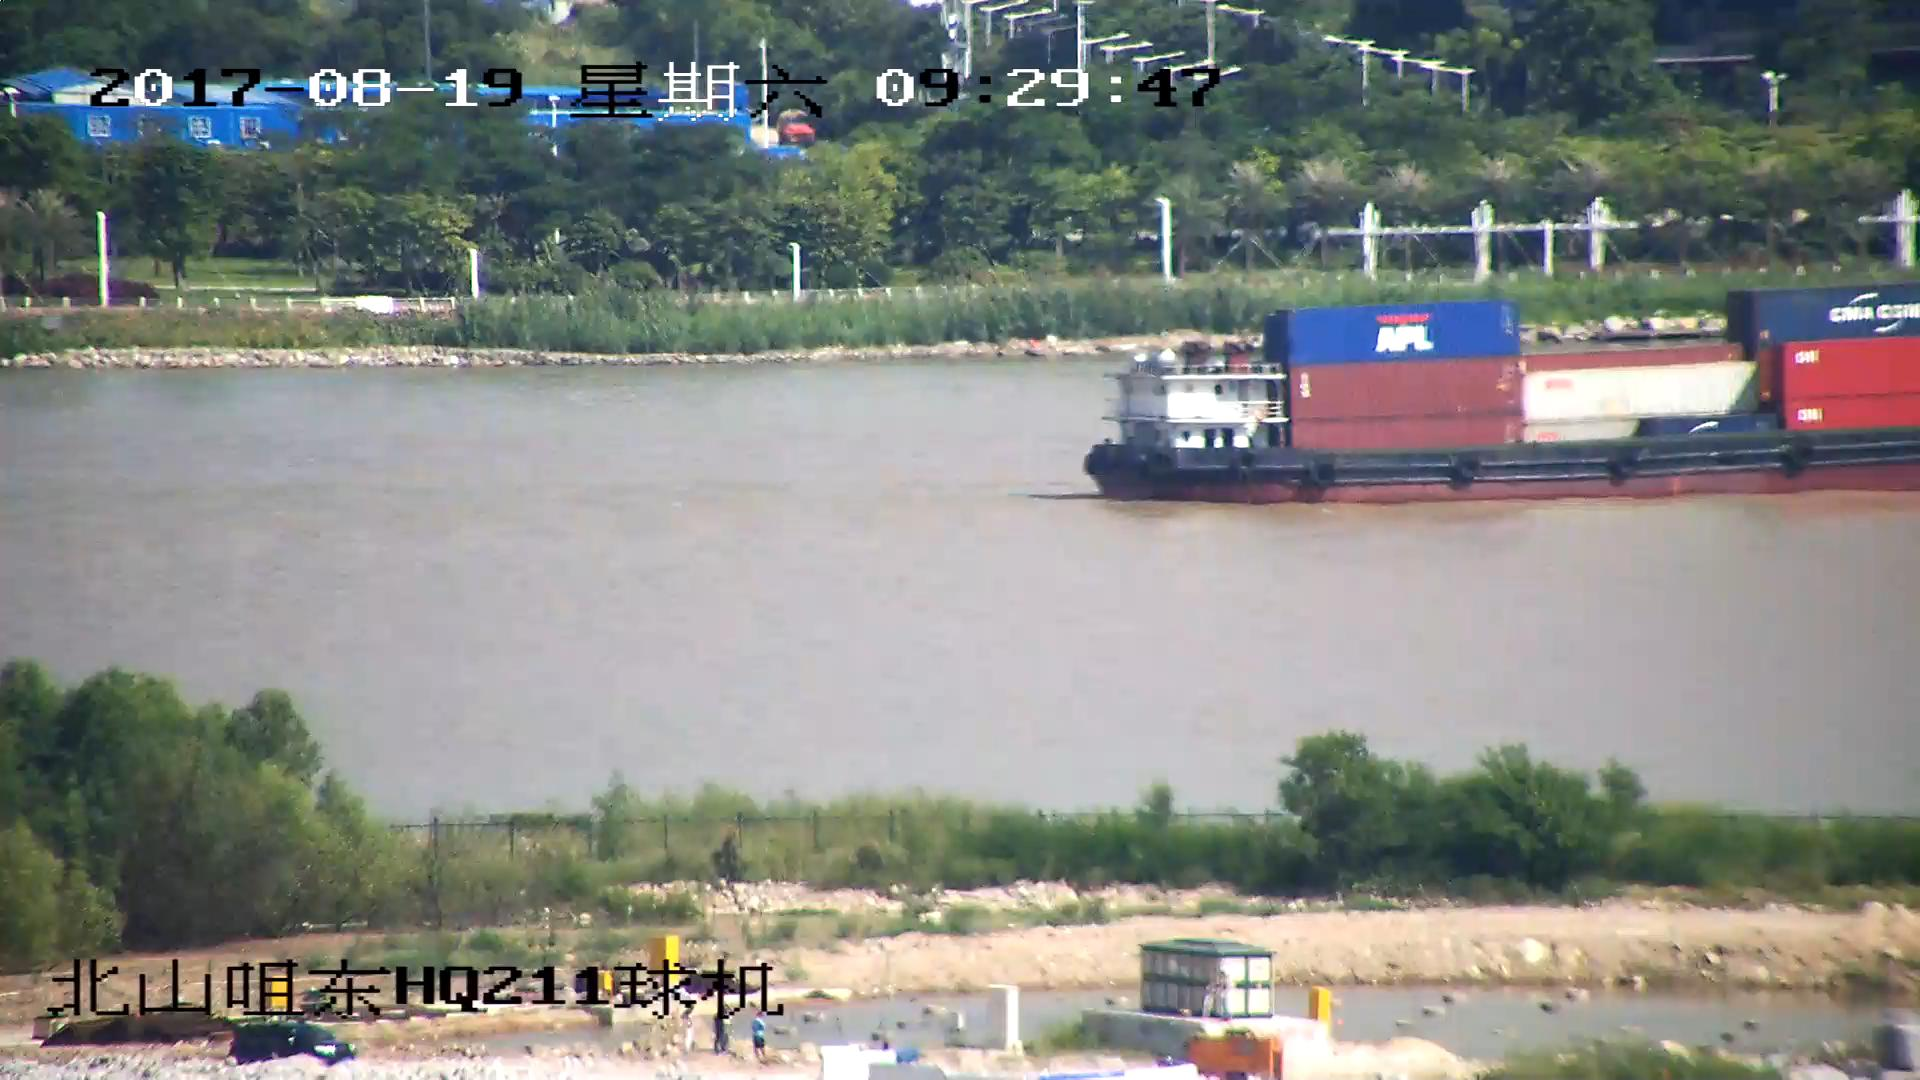container ship: (1082, 280, 1920, 504)
